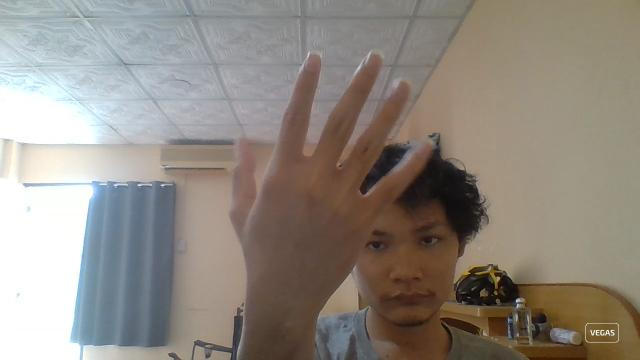backword: (228, 49, 434, 357)
